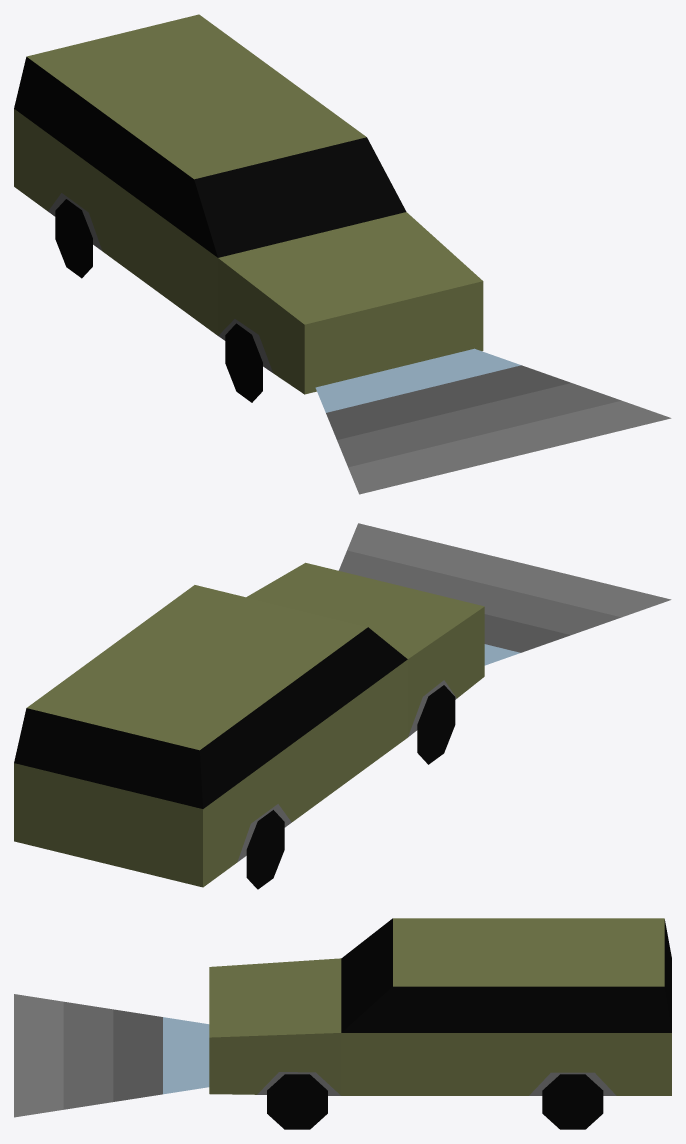
The model's file is AUTO2.glb.
3 renders of one model, top to bottom at view 1: azimuth 30°, elevation 25°; view 2: azimuth 150°, elevation 25°; view 3: azimuth 270°, elevation 25°, orthographic. The views are drawn at different scales.
Parts seen in each view (by area): view 1: AUTO2 | archived geometry; view 2: AUTO2 | archived geometry; view 3: AUTO2 | archived geometry.
Part boxes in pixels (bbox=[...]): AUTO2 | archived geometry: bbox=[14, 14, 671, 494]; AUTO2 | archived geometry: bbox=[14, 523, 671, 889]; AUTO2 | archived geometry: bbox=[14, 918, 671, 1129].
Size of the model in its own units: 3.33 by 1.75 by 7.48.
